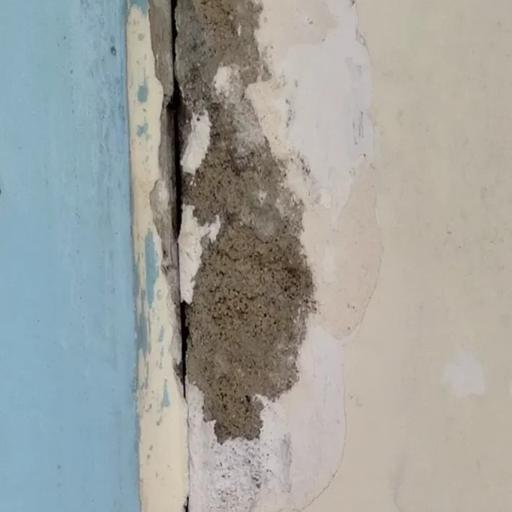spalling: (134, 4, 314, 469)
